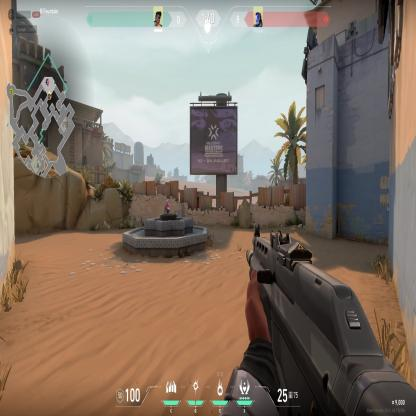enemy: (163, 199, 171, 214)
